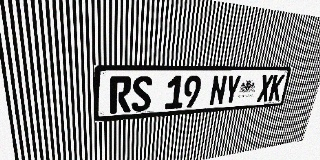1: (165, 76, 185, 109)
9: (182, 75, 202, 108)
K: (268, 74, 285, 101)
N: (209, 75, 228, 106)
R: (110, 76, 132, 114)
S: (131, 76, 152, 112)
X: (256, 75, 274, 102)
Y: (223, 75, 242, 105)
